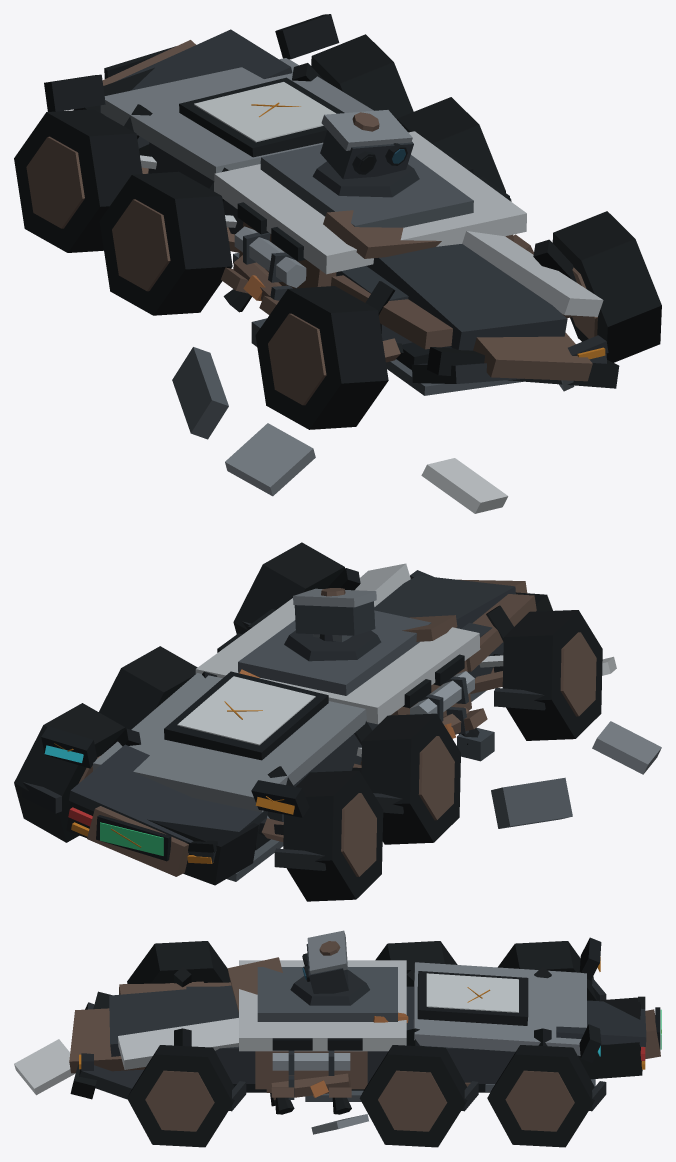
File: r47xs_recon_rover_d2_lod2.glb
3 renders of one model, top to bottom at view 1: azimuth 30°, elevation 25°; view 2: azimuth 150°, elevation 25°; view 3: azimuth 270°, elevation 25°, orthographic. The views are drawn at different scales.
Parts seen in each view (by area): view 1: ROVER_STATIC_BODY; view 2: ROVER_STATIC_BODY; view 3: ROVER_STATIC_BODY.
Part boxes in pixels (x1,y1,x2,y2): ROVER_STATIC_BODY: (14, 14, 661, 513); ROVER_STATIC_BODY: (14, 542, 661, 901); ROVER_STATIC_BODY: (14, 930, 661, 1147).
Size of the model in its own units: 2.94 by 1.59 by 5.18.
